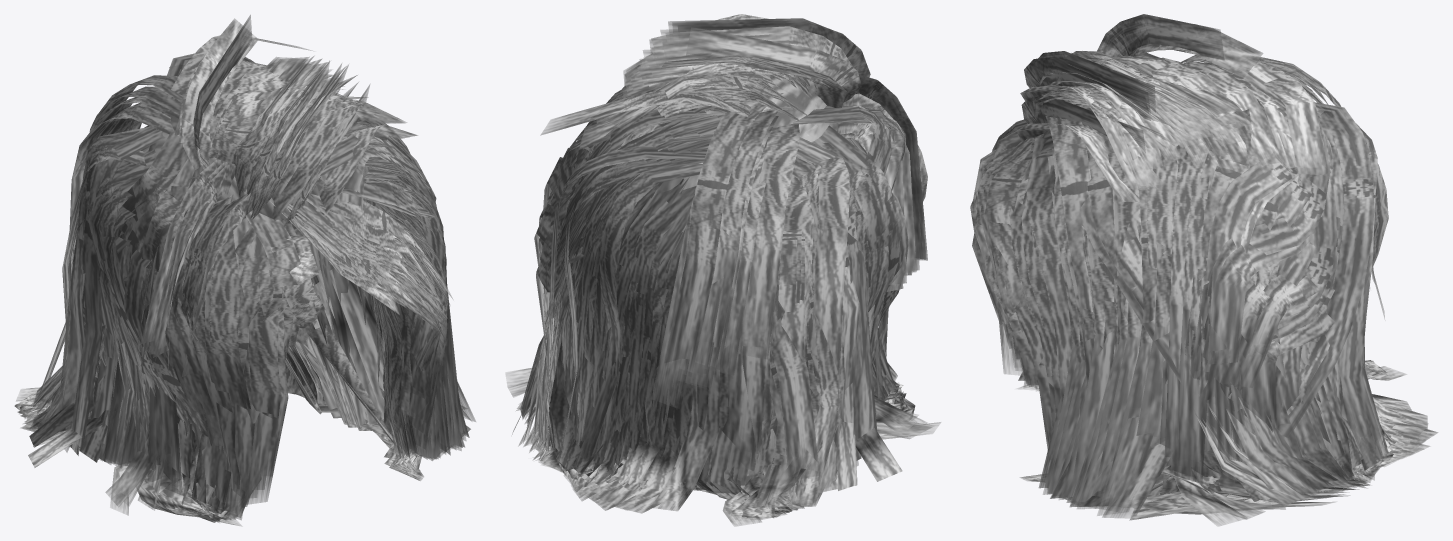
Rendered from daz_hair_o4saken_long.glb.
3 views of the same model, side by side, from view 1: azimuth 30°, elevation 25°; view 2: azimuth 150°, elevation 25°; view 3: azimuth 270°, elevation 25° (orthographic). The views are drawn at different scales.
Visible parts, largest first — view 1: daz_hair_o4saken_long; view 2: daz_hair_o4saken_long; view 3: daz_hair_o4saken_long.
Boxes of the visible parts, x1,y1,x2,y2 form: daz_hair_o4saken_long: (14, 15, 475, 526); daz_hair_o4saken_long: (505, 14, 940, 526); daz_hair_o4saken_long: (970, 14, 1438, 526).
Bounding box in the file's own units: 0.2869 × 0.2764 × 0.2836.
Materials: 1 (1 with a texture image).
